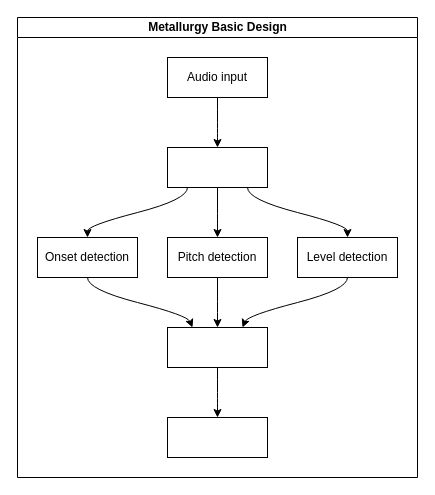
Image size: 435x495. Some labels were removed from this diagram. Here are the shapes that lost their labels. From the top down, the box of each, then its label:
(166, 146, 268, 188): es.MonoLoader
(166, 326, 268, 368): Create (midi) map
(166, 416, 268, 458): Synthesize output
